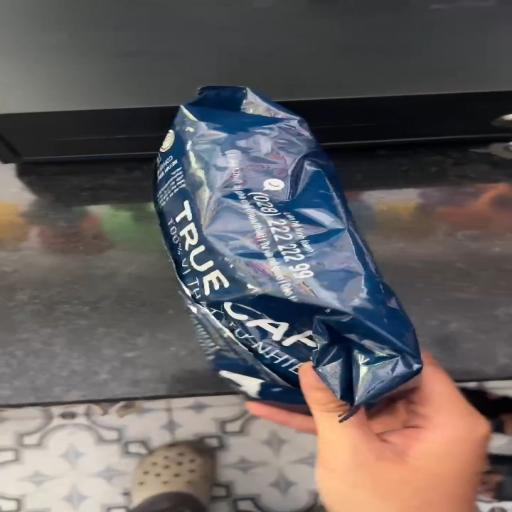cafe_hat: (154, 86, 422, 408)
